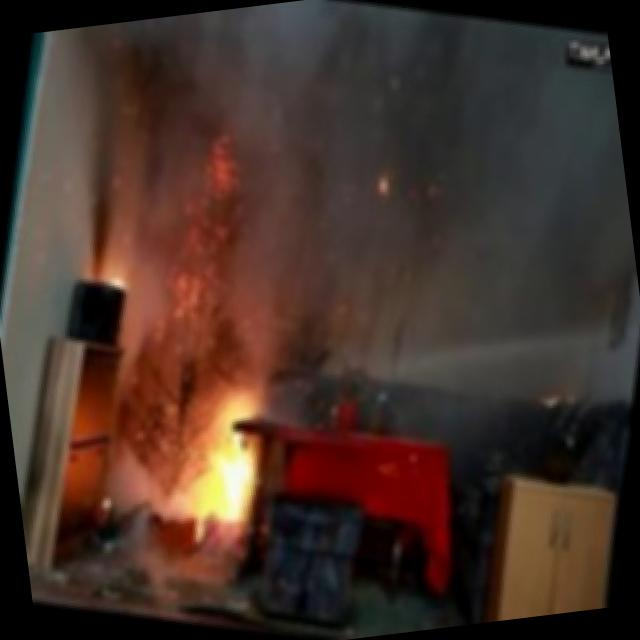fire: (142, 351, 316, 548)
